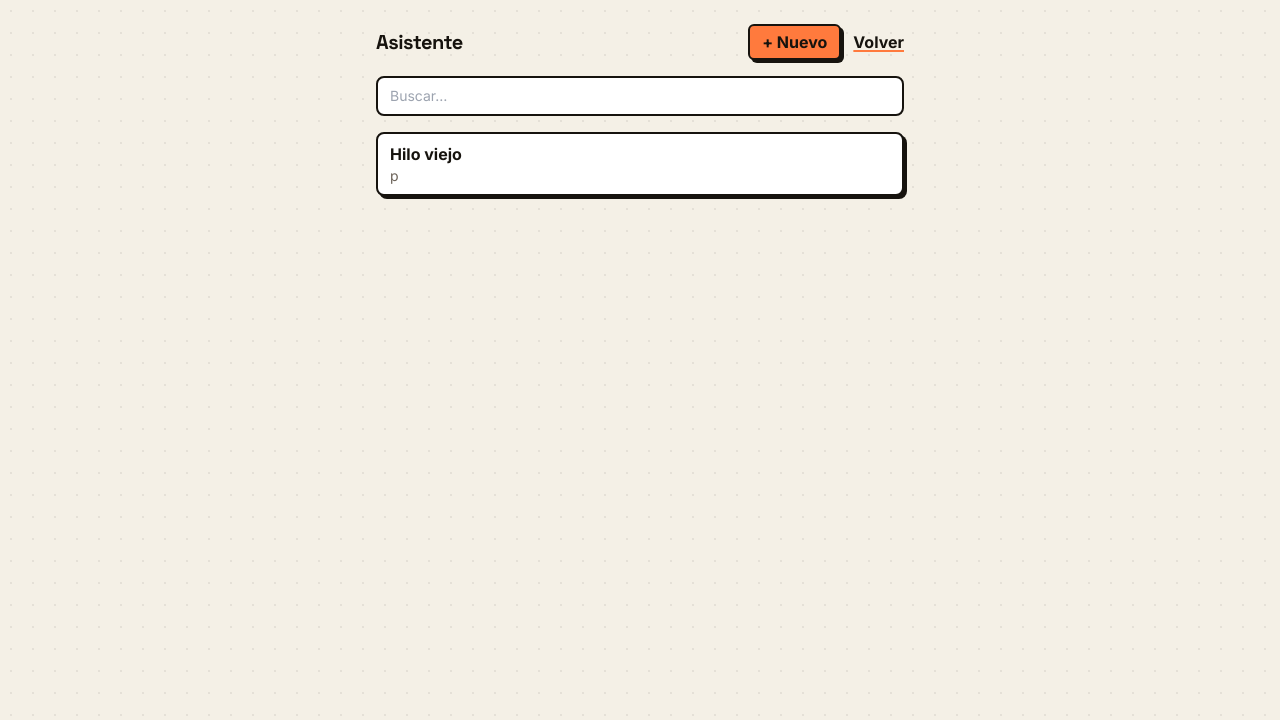
Test case: ThreadListPage › buscar (≥2 chars) muestra resultados y oculta la lista normal
Expected: the text "Hilo viejo" is shown, [390, 142, 462, 166]
Step 1. Type "gaste" into the search field with placeholder "Buscar…" → point(640, 96), box [376, 76, 904, 116]
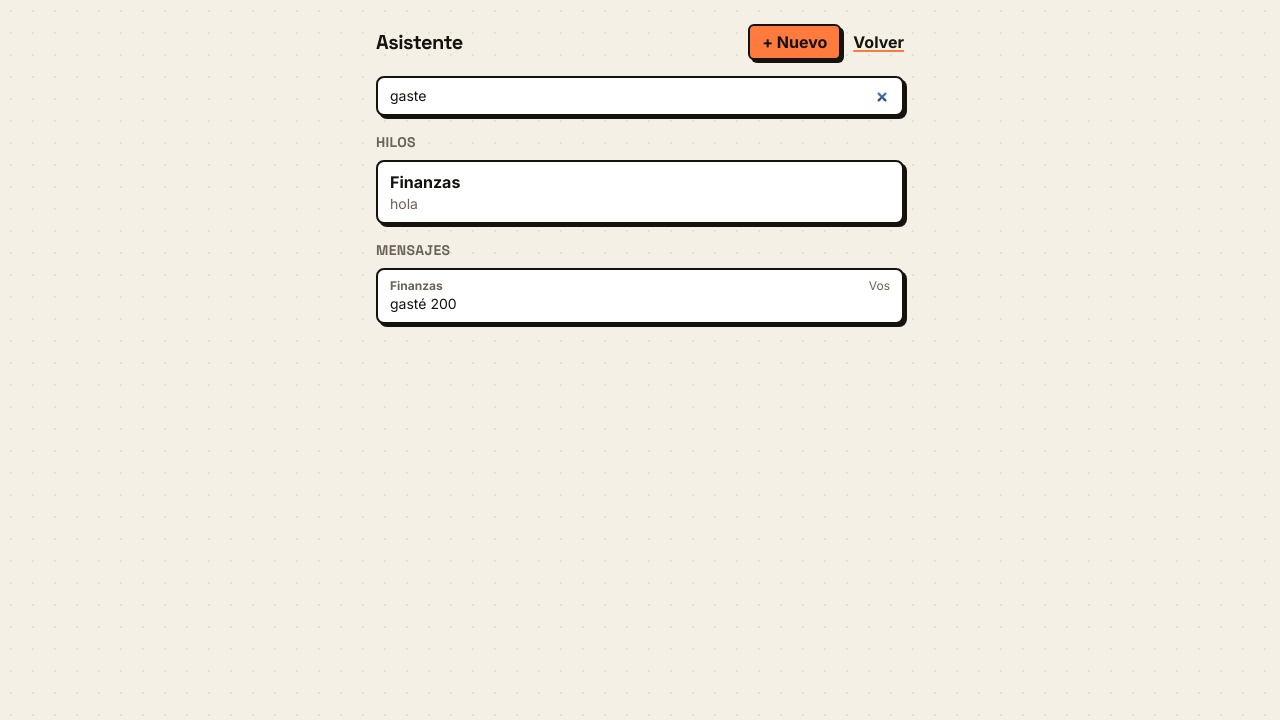
Expected: the text "Finanzas" below "Hilos" is shown, [390, 172, 460, 192]
Expected: the text "gasté 200" is shown, [390, 295, 457, 312]
Expected: the link "Hilo viejo" is gone
